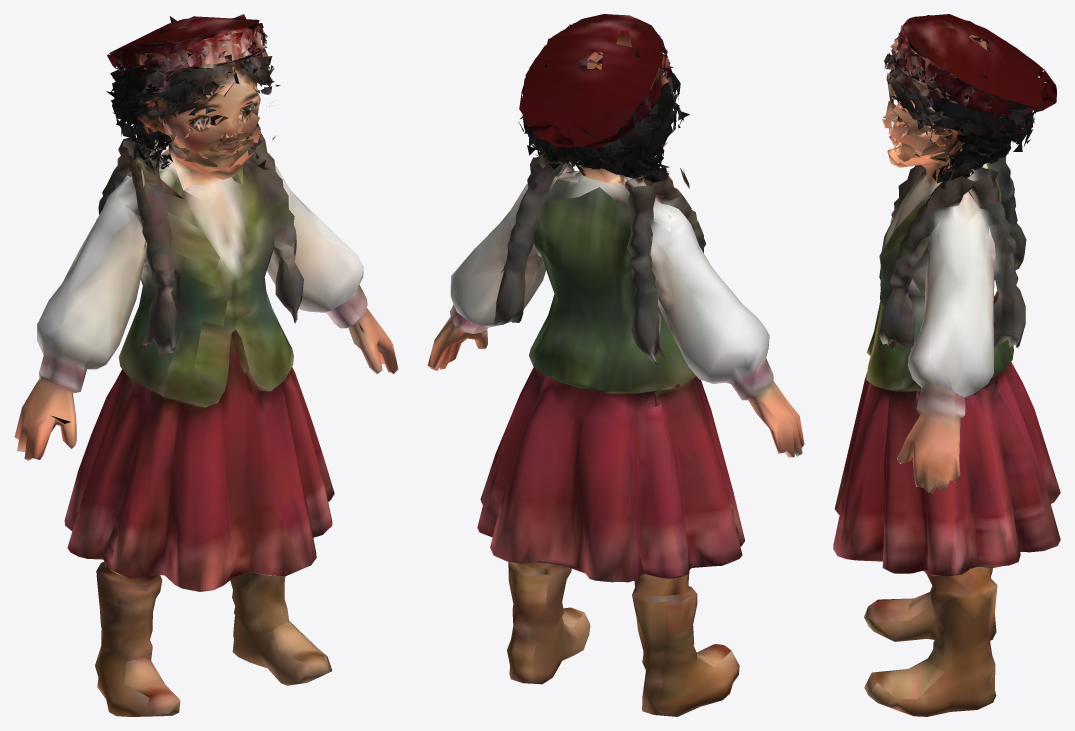
The model's file is child.gen.phone.glb.
3 renders of one model, left to right at view 1: azimuth 30°, elevation 25°; view 2: azimuth 150°, elevation 25°; view 3: azimuth 270°, elevation 25°, orthographic. The views are drawn at different scales.
Visible parts, largest first — view 1: child.raw; view 2: child.raw; view 3: child.raw.
Boxes of the visible parts, <box> form: child.raw: <box>14,14,398,716</box>; child.raw: <box>427,14,804,716</box>; child.raw: <box>833,14,1060,716</box>.
Size of the model in its own units: 0.6729 by 1.15 by 0.3694.
Materials: 1 (1 with a texture image).
